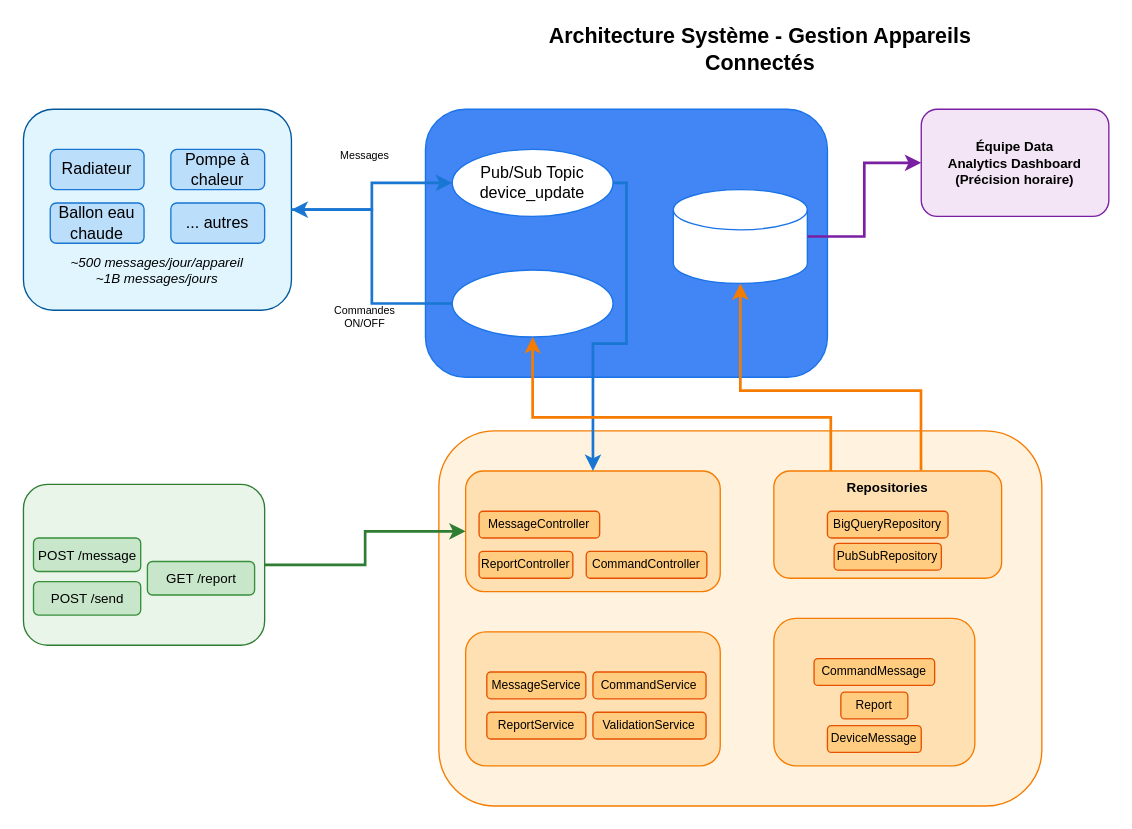
This 1132x829 diagram has some shape labels left out. Here are the shapes that lost their labels. From the top down, the box of each, then its label:
(22, 108, 291, 310): Appareils Connectés (2M)
(424, 108, 827, 377): Google Cloud Platform
(672, 188, 807, 283): BigQuery device_data
(451, 269, 613, 337): Pub/Sub Topic send_command
(464, 470, 720, 592): Controllers
(22, 483, 265, 645): API Endpoints
(438, 429, 1042, 806): API REST
(464, 630, 720, 766): Services
(773, 617, 975, 766): Models
